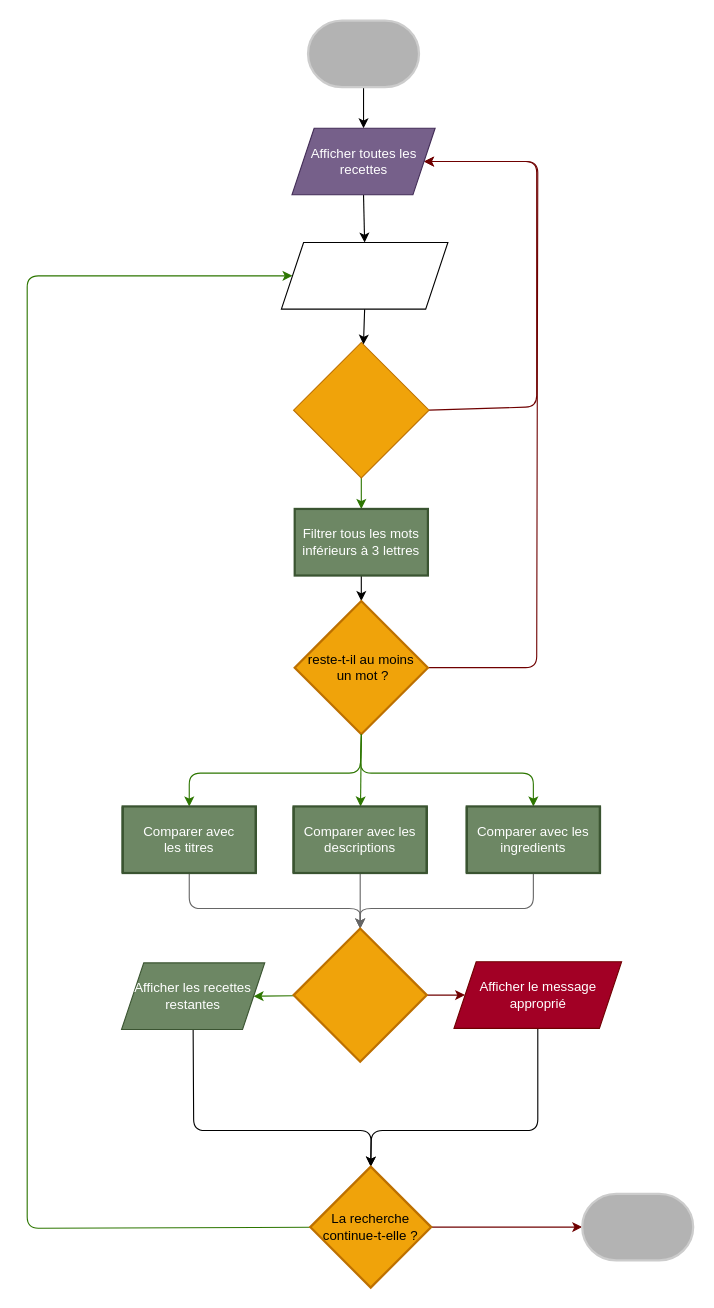
Some shapes in this 714 by 1308 pixel diagram are drawn without their labels. The shapes that lost their labels are listed below. From the top down, each one's centre as x and y in pixels, then its label:
At (x=363, y=53): "Début".
At (x=364, y=275): "Ecouter la recherche principale".
At (x=360, y=409): "Plus de 3 lettres ?".
At (x=359, y=994): "Reste-t-il au moins une recette ?".
At (x=637, y=1226): "Fin".
